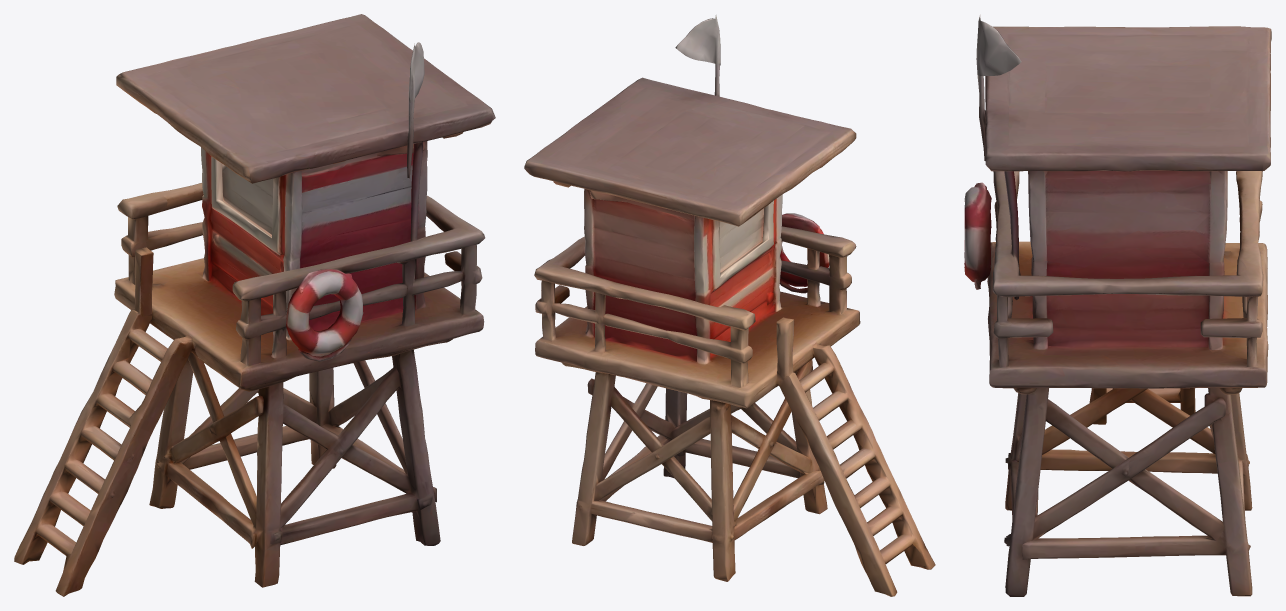
File: lifeguard-tower.glb
3 renders of one model, left to right at view 1: azimuth 30°, elevation 25°; view 2: azimuth 150°, elevation 25°; view 3: azimuth 270°, elevation 25°, orthographic. The views are drawn at different scales.
Parts seen in each view (by area): view 1: tripo_node_43c3125a-437f-4b5b-be49-b1ee2ea5f57e; view 2: tripo_node_43c3125a-437f-4b5b-be49-b1ee2ea5f57e; view 3: tripo_node_43c3125a-437f-4b5b-be49-b1ee2ea5f57e.
Part boxes in pixels (bbox=[...]): tripo_node_43c3125a-437f-4b5b-be49-b1ee2ea5f57e: bbox=[14, 14, 495, 596]; tripo_node_43c3125a-437f-4b5b-be49-b1ee2ea5f57e: bbox=[524, 15, 935, 596]; tripo_node_43c3125a-437f-4b5b-be49-b1ee2ea5f57e: bbox=[964, 14, 1271, 596].
Bounding box in the file's own units: 0.775 × 1 × 0.4949.
1 material, 1 textured.
